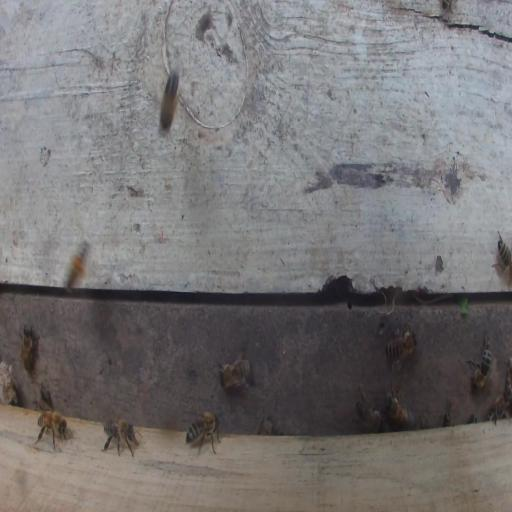bee: (34, 396, 71, 451), (182, 408, 222, 458), (100, 418, 145, 459), (61, 236, 92, 290), (352, 385, 384, 434), (160, 65, 180, 134), (18, 321, 42, 374), (215, 355, 251, 389), (384, 326, 418, 362), (469, 338, 491, 392), (383, 393, 414, 429), (487, 391, 511, 427), (497, 235, 512, 274)
